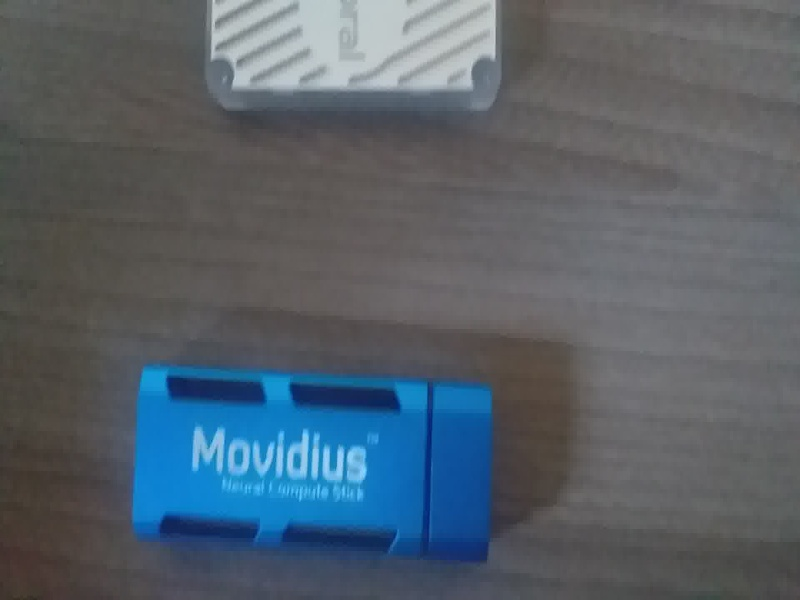coral: (182, 1, 509, 124)
movidius: (120, 348, 513, 575)
